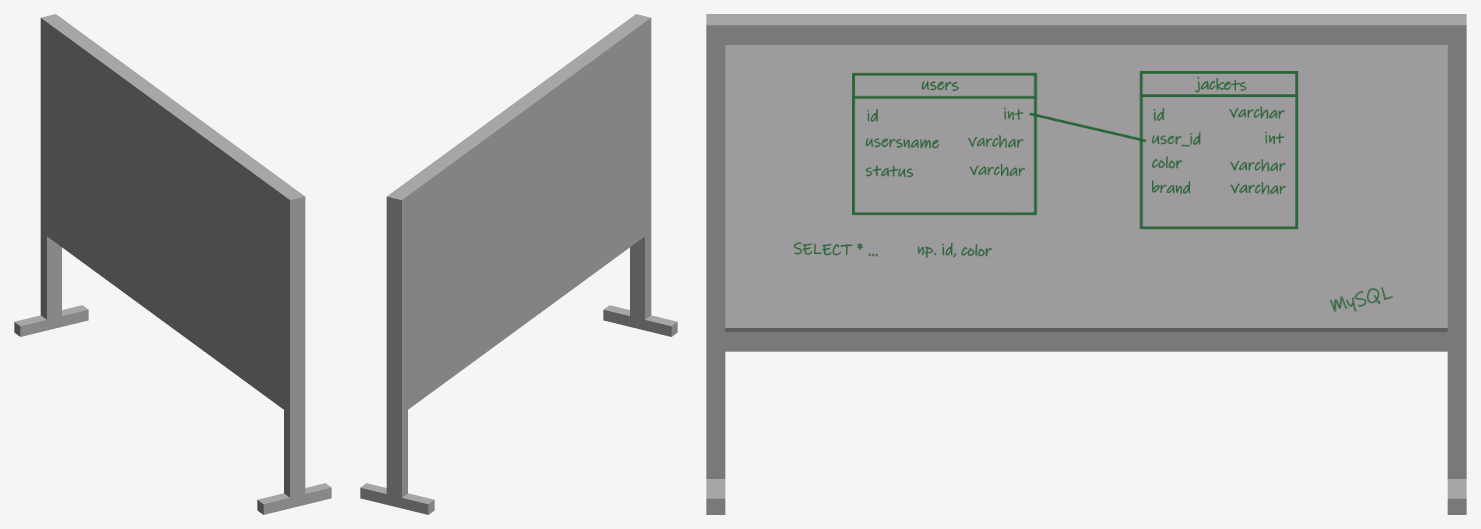
Rendered from board.fbx.
3 renders of one model, left to right at view 1: azimuth 30°, elevation 25°; view 2: azimuth 150°, elevation 25°; view 3: azimuth 270°, elevation 25°, orthographic. The views are drawn at different scales.
Visible parts, largest first — view 1: Cube; view 2: Cube; view 3: Plane, Cube.
Part boxes in pixels (x1,y1,x2,y2): Cube: (14, 14, 331, 514); Cube: (360, 14, 677, 514); Plane: (725, 45, 1447, 327); Cube: (706, 14, 1466, 514).
Bounding box in the file's own units: 20.96 × 90.56 × 133.
